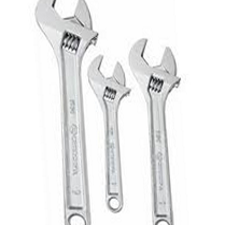Wrench: (125, 17, 193, 225), (32, 1, 95, 225), (88, 50, 135, 217)
